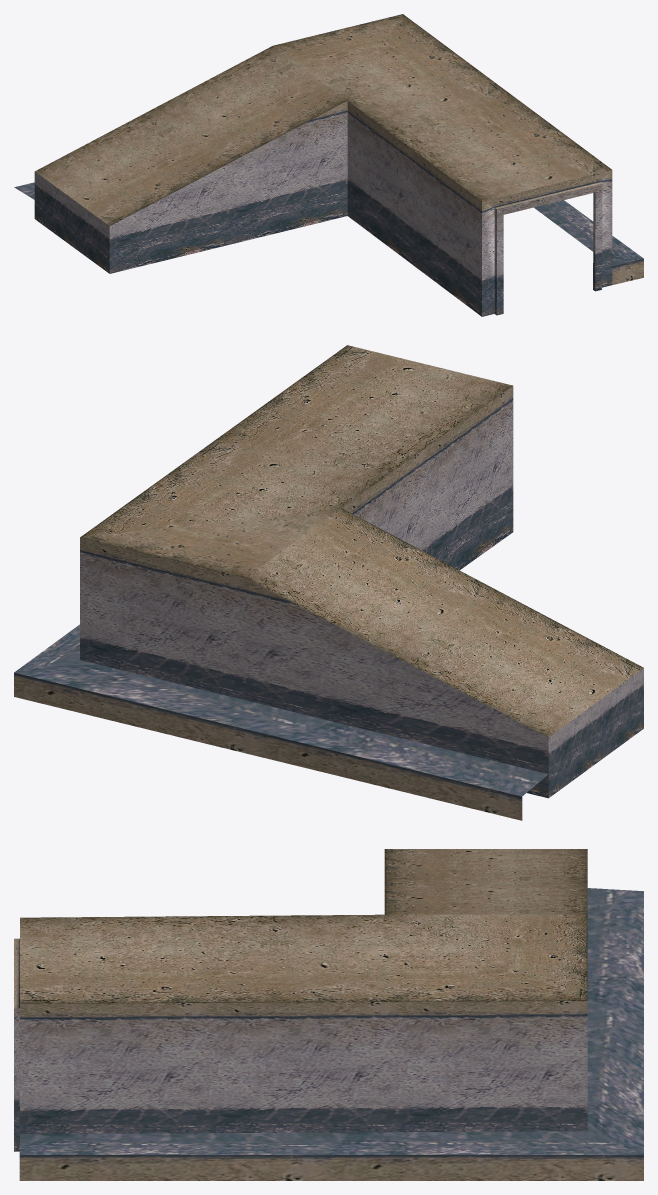
Rendered from M11Sewer_EntranceTop02.glb.
3 renders of one model, top to bottom at view 1: azimuth 30°, elevation 25°; view 2: azimuth 150°, elevation 25°; view 3: azimuth 270°, elevation 25°, orthographic. The views are drawn at different scales.
Parts seen in each view (by area): view 1: M11SEWER_ENTRANCETOP02; view 2: M11SEWER_ENTRANCETOP02; view 3: M11SEWER_ENTRANCETOP02.
Part boxes in pixels (x1,y1,x2,y2): M11SEWER_ENTRANCETOP02: (14,14,643,316); M11SEWER_ENTRANCETOP02: (14,345,643,820); M11SEWER_ENTRANCETOP02: (14,849,643,1180).
Size of the model in its own units: 8 by 2.25 by 8.07.
Materials: 2 (2 with a texture image).
